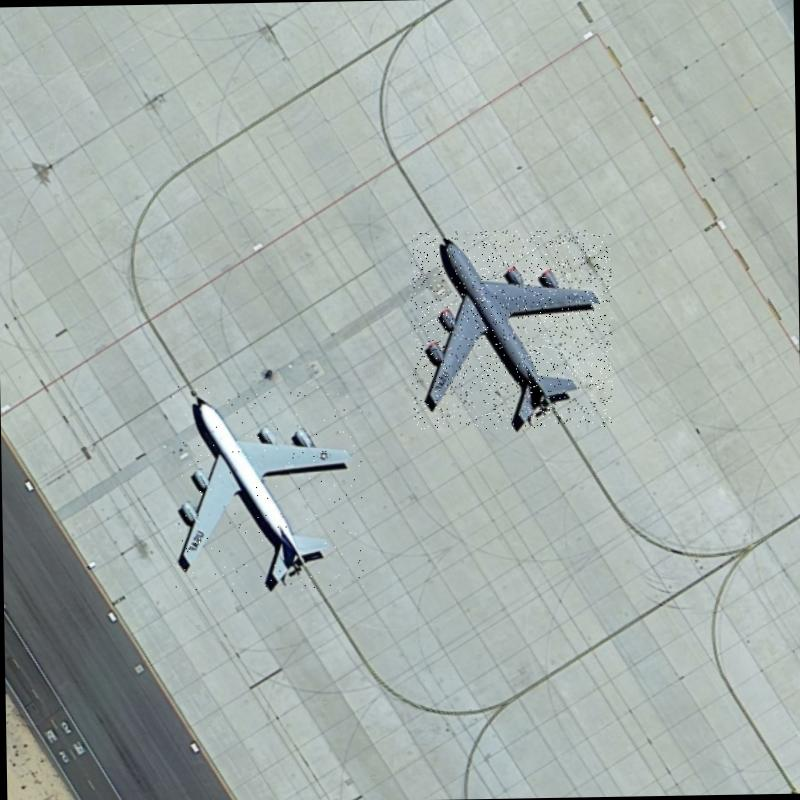A11: (170, 383, 364, 594)
A14: (410, 228, 614, 430)
